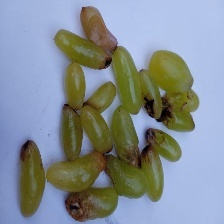grapes: (47, 43, 200, 197)
